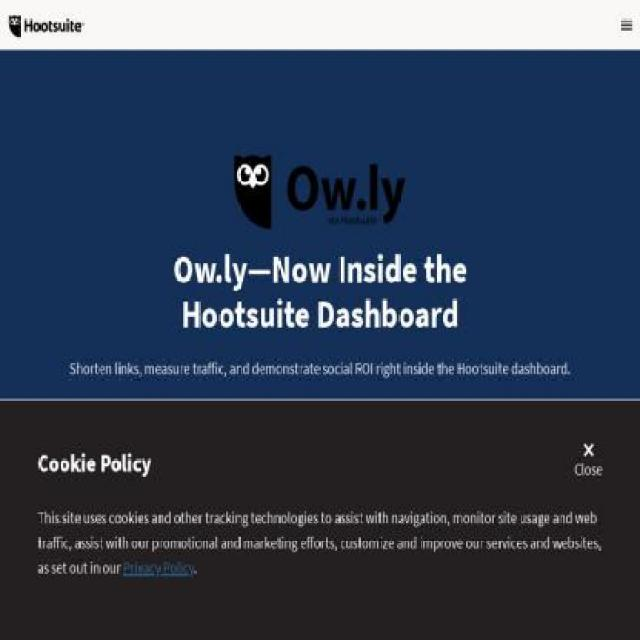button: (209, 401, 336, 444), (355, 401, 431, 444), (8, 13, 86, 39), (574, 443, 603, 482), (620, 16, 632, 33)
